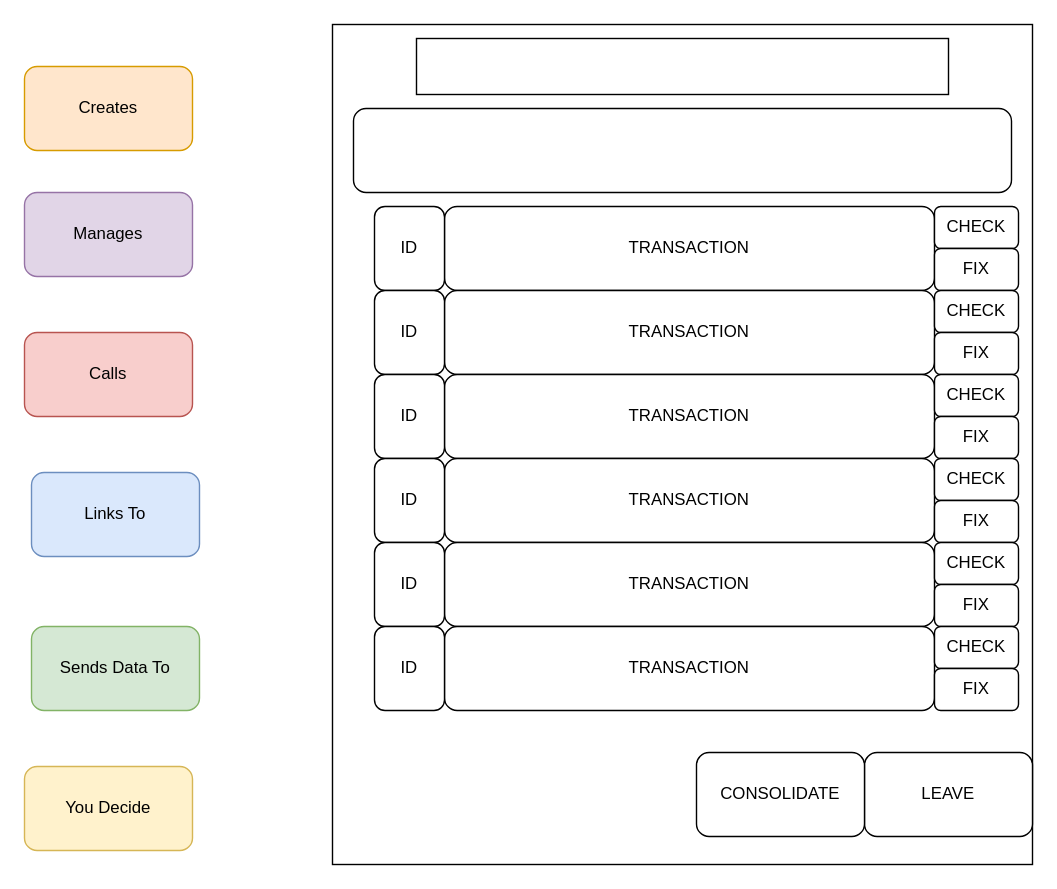
The diagram is 1057 pixels wide and 889 high, and some of its shapes have lost their labels. The centre of each missing label's shape, as x and y in pixels:
CONSOLIDATE LIST: pixel 681 149
SUPERUSER REQUIRED: pixel 681 65
